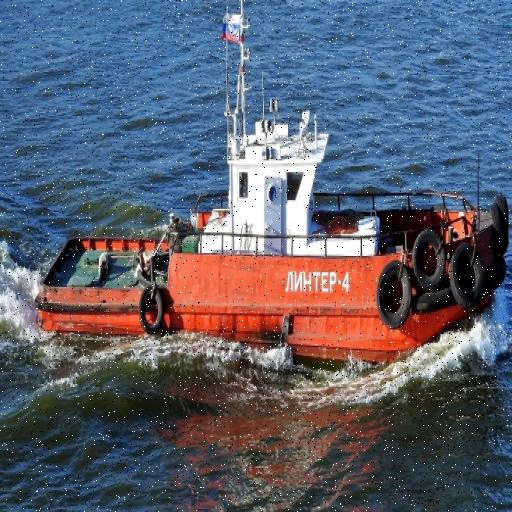tugboat: (32, 97, 512, 385)
